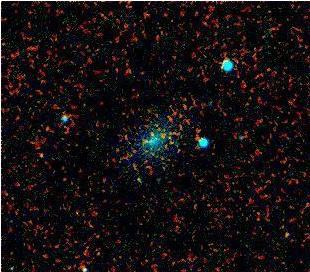star: (28, 144, 58, 174)
